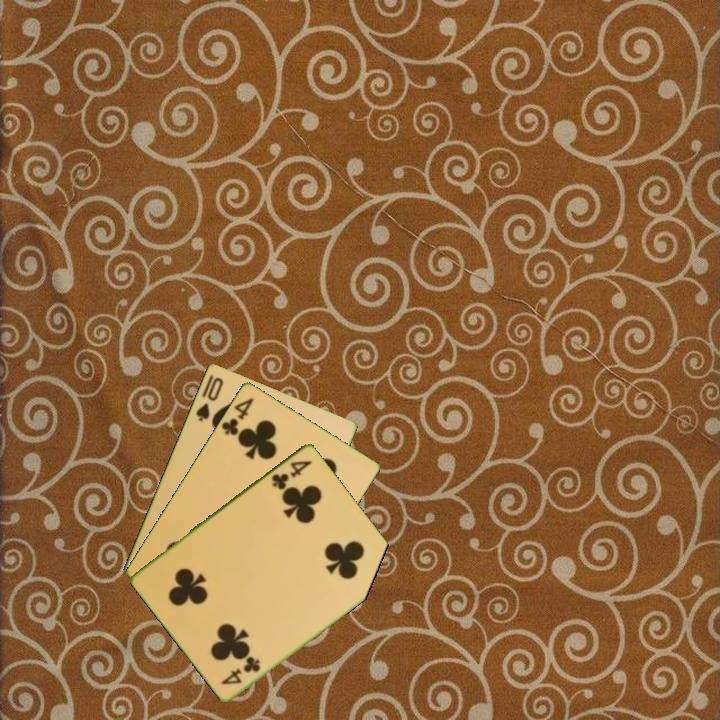10s: (192, 373, 226, 424)
4c: (218, 394, 257, 438), (268, 456, 315, 492), (217, 653, 263, 687)
